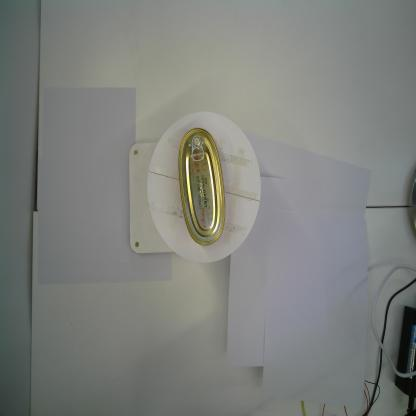Canned Food: (177, 128, 226, 246)
